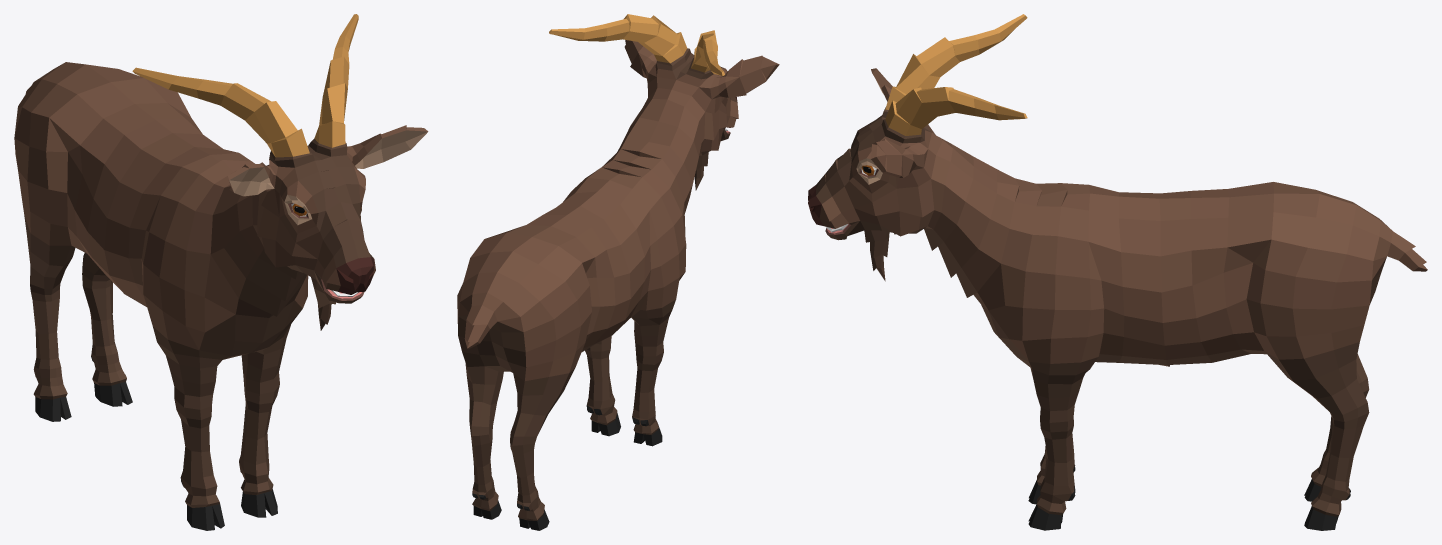
Rendered from LowPoly_Goat_Male_6.obj.
3 views of the same model, side by side, from view 1: azimuth 30°, elevation 25°; view 2: azimuth 150°, elevation 25°; view 3: azimuth 270°, elevation 25° (orthographic). The views are drawn at different scales.
Visible parts, largest first — view 1: Goat_Male_6_Cube.015; view 2: Goat_Male_6_Cube.015; view 3: Goat_Male_6_Cube.015.
Boxes of the visible parts, x1,y1,x2,y2 form: Goat_Male_6_Cube.015: [14, 14, 428, 530]; Goat_Male_6_Cube.015: [457, 14, 779, 530]; Goat_Male_6_Cube.015: [808, 14, 1427, 530].
Size of the model in its own units: 0.4623 by 0.9494 by 1.19.
